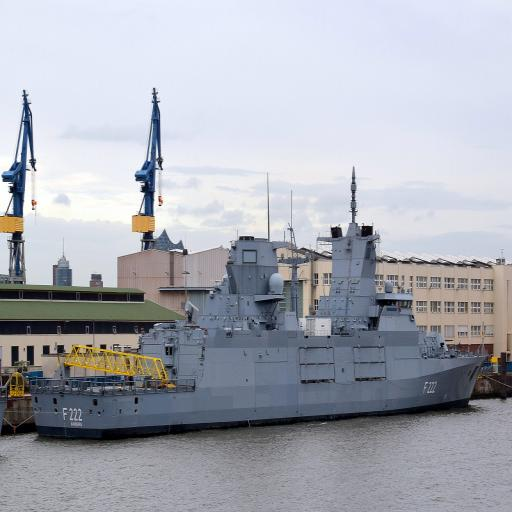Fragata: (28, 160, 495, 444)
